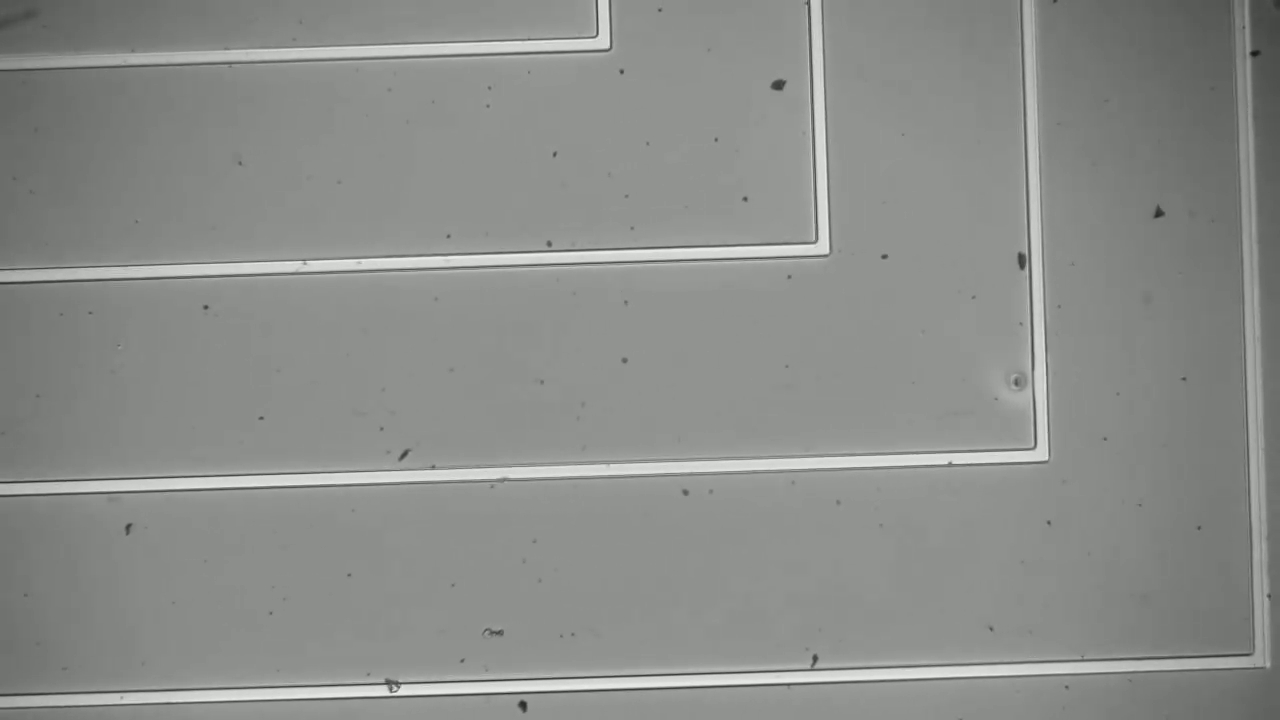stains_enbedded: (373, 669, 414, 703)
